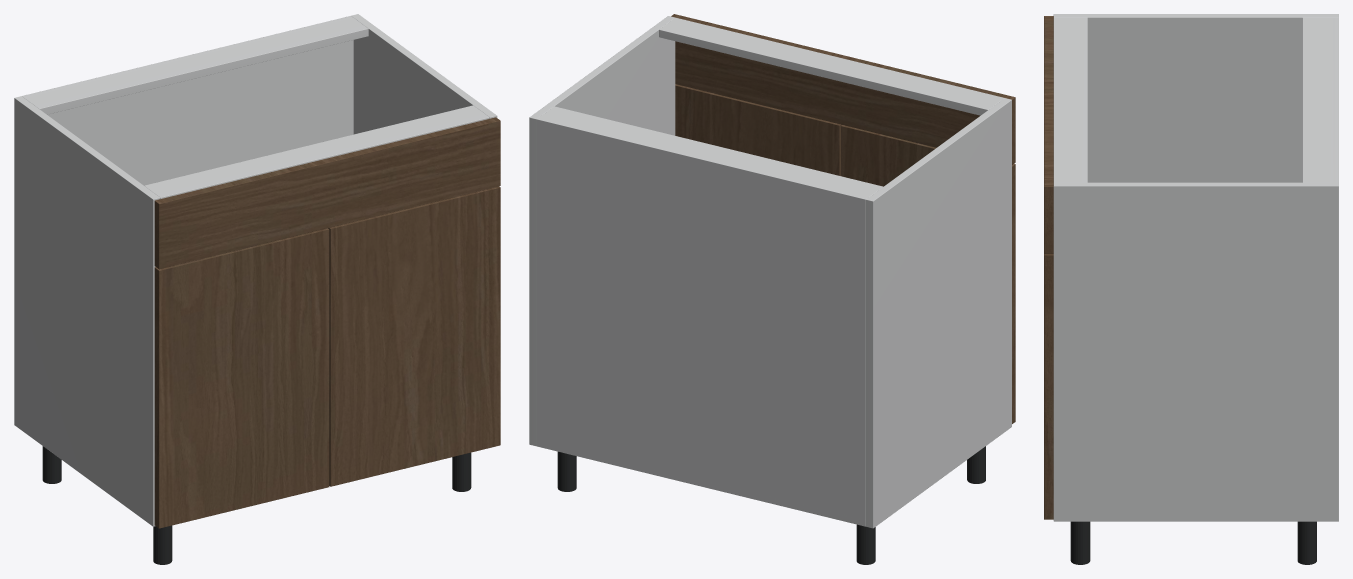
The model's file is oppein-ply-mso-sb33.glb.
The picture shows the model from 3 angles, left to right: view 1: azimuth 30°, elevation 25°; view 2: azimuth 150°, elevation 25°; view 3: azimuth 270°, elevation 25°; orthographic projection. The views are drawn at different scales.
Parts seen in each view (by area): view 1: Cabinet side, Door, Door.001, Cabinet back, False drawer front, Cabinet side.001, Top support rail, Top support rail.001, Adjustable foot.001, Adjustable foot.003, Adjustable foot; view 2: Cabinet back, Cabinet side, False drawer front, Cabinet side.001, Door.001, Top support rail.001, Top support rail, Door, Adjustable foot, Adjustable foot.002; view 3: Cabinet side.001, Cabinet side, Top support rail.001, Top support rail, Door.001, False drawer front, Cabinet back, Adjustable foot.003, Adjustable foot.002.
Part boxes in pixels (x1,y1,x2,y2): Cabinet side: (14,96,160,526); Door: (154,228,329,528); Door.001: (328,186,500,486); Cabinet back: (22,16,353,185); False drawer front: (154,117,500,269); Cabinet side.001: (351,14,497,134); Top support rail: (24,17,368,114); Top support rail.001: (144,105,489,198); Adjustable foot.001: (153,525,172,564); Adjustable foot.003: (452,452,471,491); Adjustable foot: (42,446,61,483); Cabinet back: (536,117,867,526); Cabinet side: (866,98,1011,528); False drawer front: (671,14,1015,164); Cabinet side.001: (529,16,675,446); Door.001: (675,84,841,175); Top support rail.001: (659,17,1004,115); Top support rail: (540,106,883,198); Door: (841,125,1015,423); Adjustable foot: (856,524,875,564); Adjustable foot.002: (557,451,576,491); Cabinet side.001: (1053,182,1338,521); Cabinet side: (1053,14,1338,182); Top support rail.001: (1053,17,1087,182); Top support rail: (1302,17,1333,182); Door.001: (1044,254,1053,519); False drawer front: (1044,16,1053,253); Cabinet back: (1333,17,1338,182); Adjustable foot.003: (1070,521,1090,564); Adjustable foot.002: (1297,521,1316,564).
Size of the model in its own units: 0.8382 by 0.8763 by 0.6064.
Materials: 3 (1 with a texture image).
